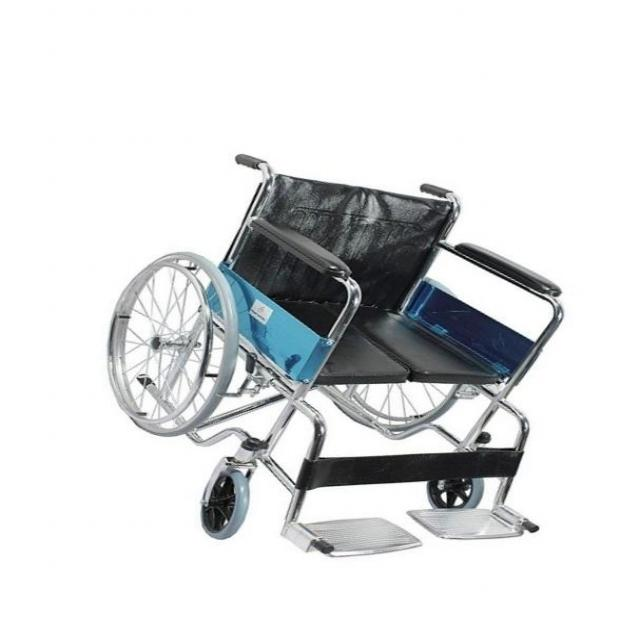wheelchair: (104, 146, 573, 568)
